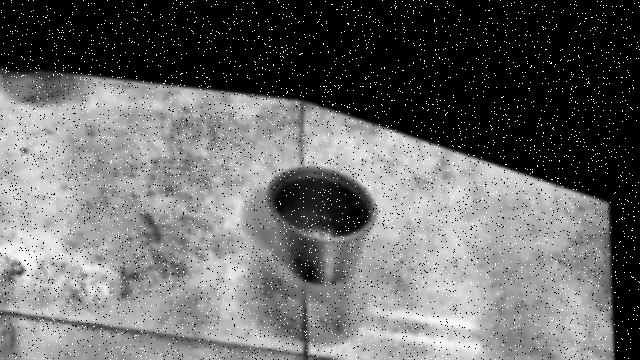pot: (266, 167, 376, 284)
